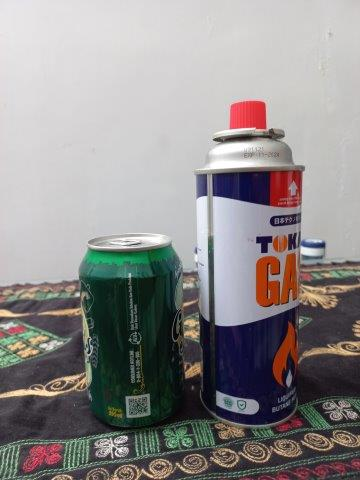kaleng: (194, 100, 304, 426), (77, 227, 185, 425)
